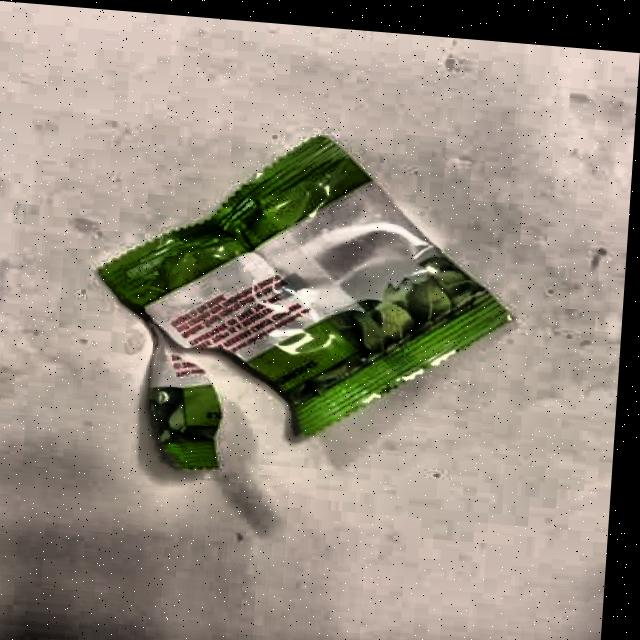trash: (85, 110, 535, 497)
